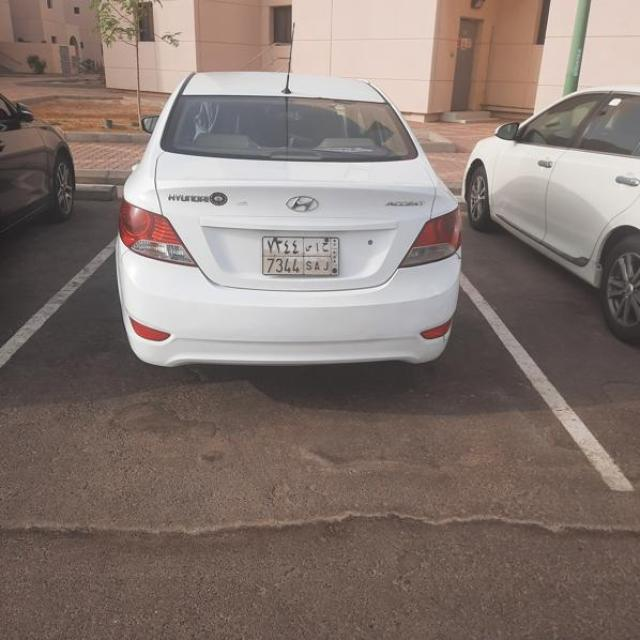license_plate: (264, 237, 342, 277)
